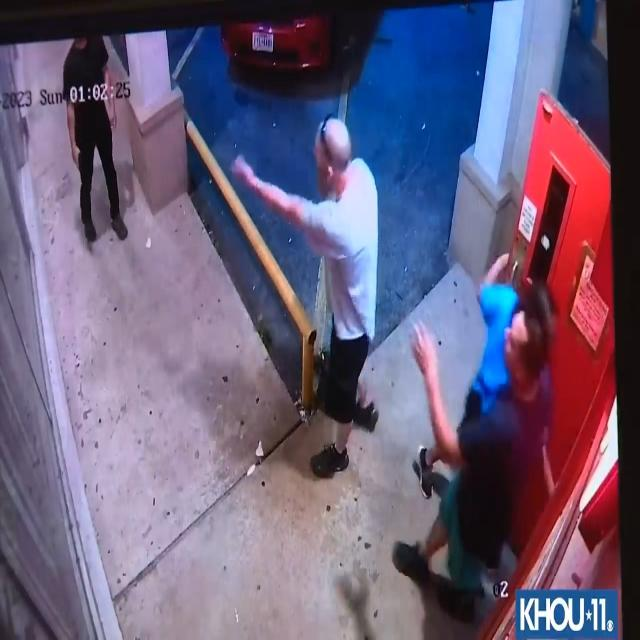Gun_Holder: (71, 145, 87, 178)
Person: (232, 112, 389, 481), (411, 306, 544, 631), (469, 251, 560, 492), (58, 35, 130, 246)
